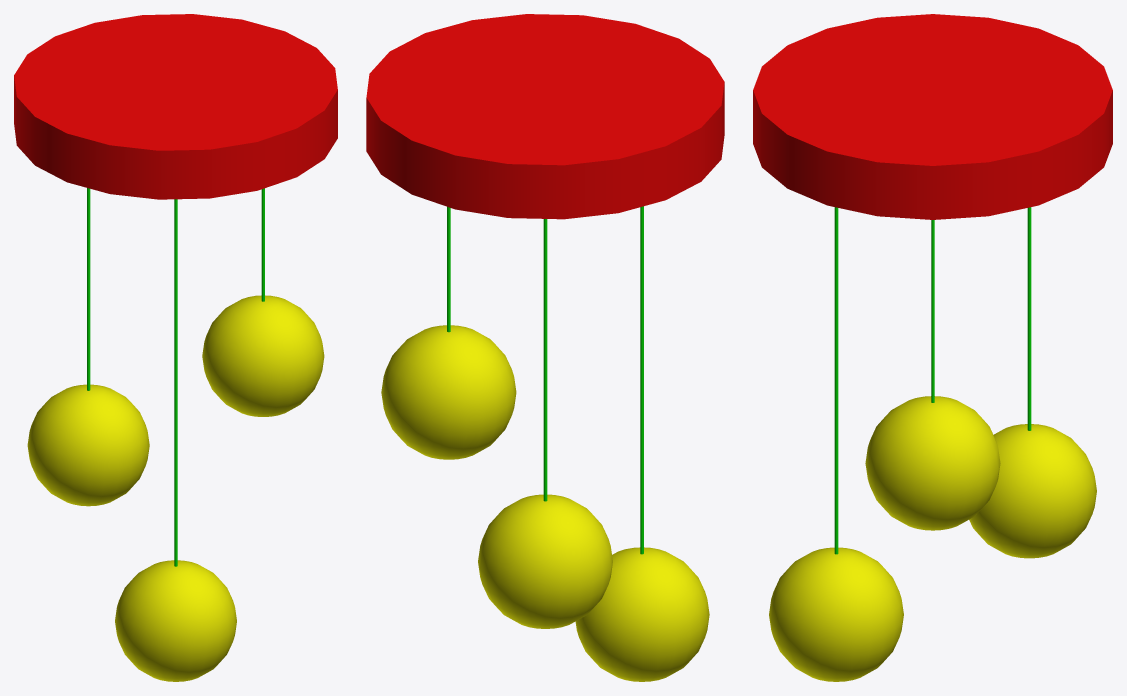
Rendered from ai2_lamp_2b.fbx.
The picture shows the model from 3 angles, left to right: view 1: azimuth 30°, elevation 25°; view 2: azimuth 150°, elevation 25°; view 3: azimuth 270°, elevation 25°; orthographic projection. The views are drawn at different scales.
Parts seen in each view (by area): view 1: ai2_lamp_2b; view 2: ai2_lamp_2b; view 3: ai2_lamp_2b.
Boxes of the visible parts, x1,y1,x2,y2 form: ai2_lamp_2b: [14, 14, 337, 681]; ai2_lamp_2b: [366, 14, 724, 681]; ai2_lamp_2b: [753, 14, 1112, 681].
Bounding box in the file's own units: 42.54 × 79.51 × 42.54.
